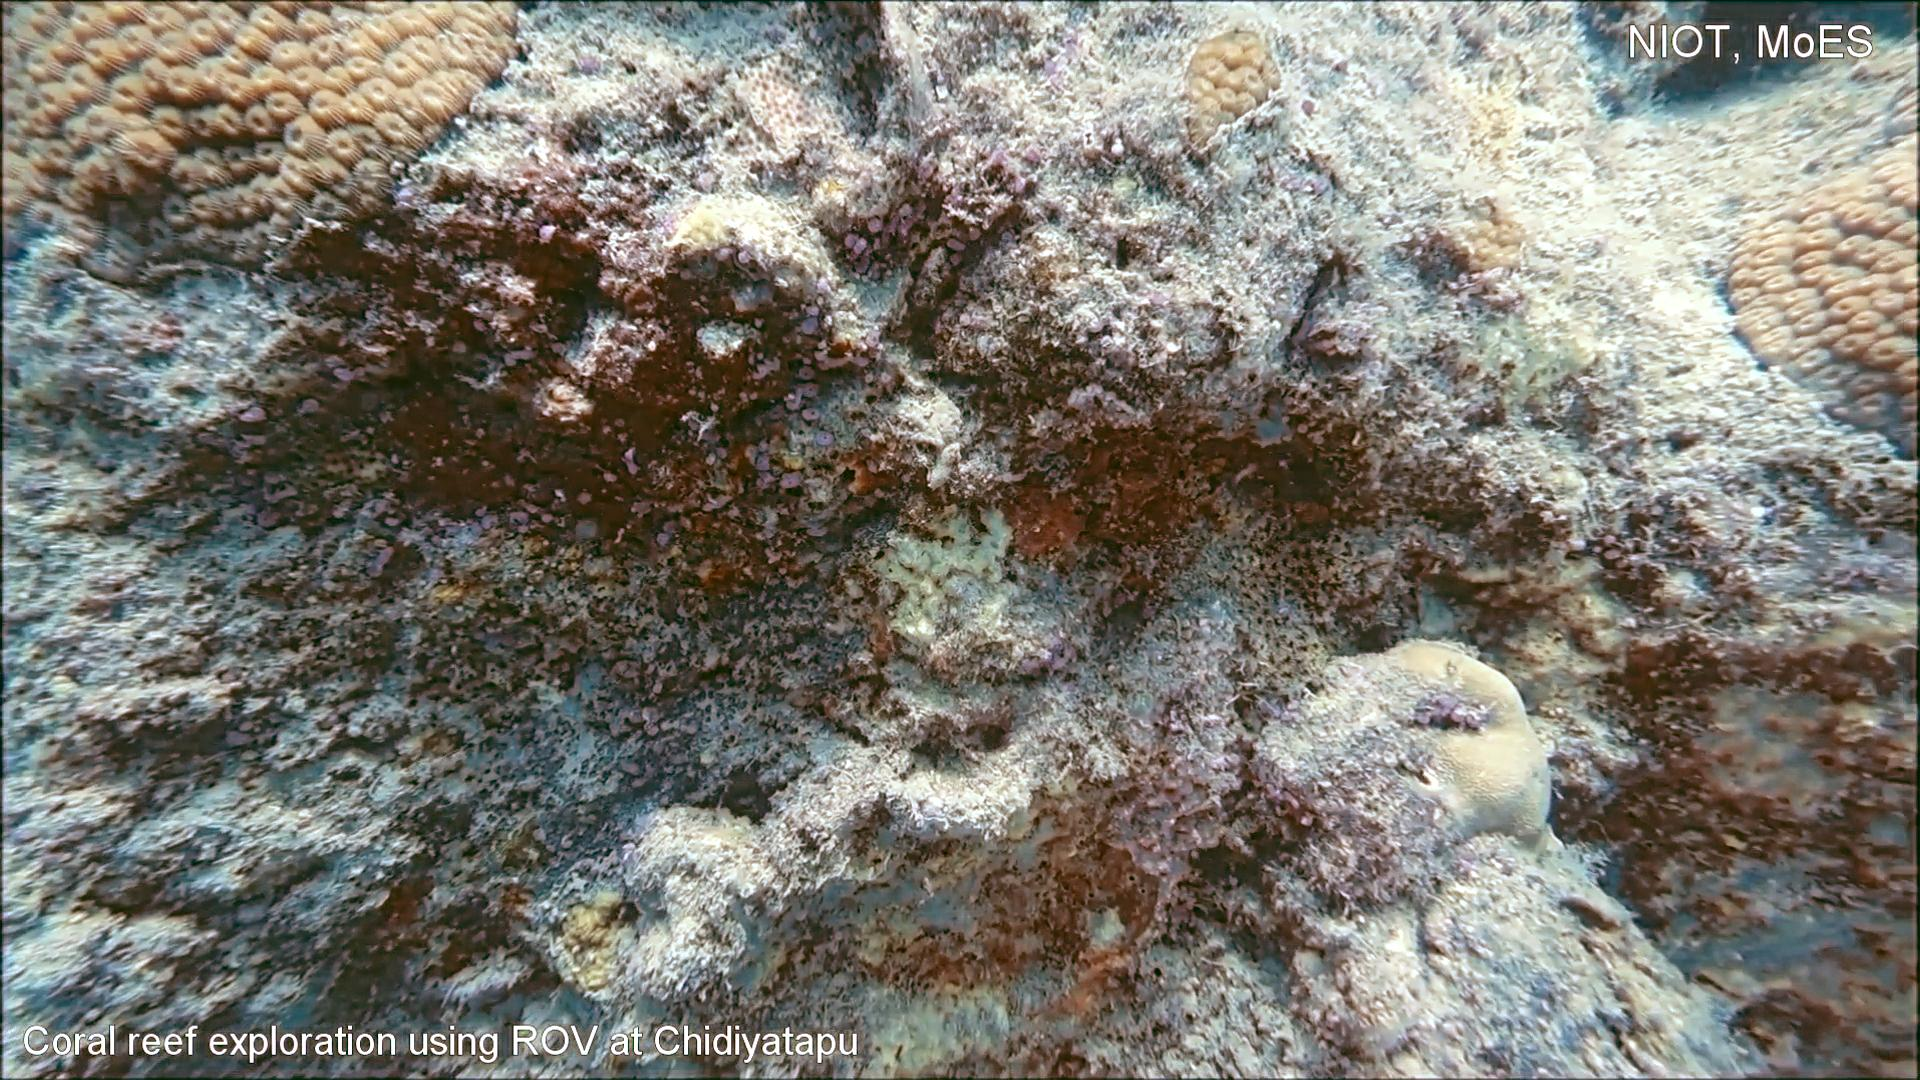Montastraea: (0, 0, 529, 295), (1712, 70, 1920, 471), (1172, 22, 1290, 175)
